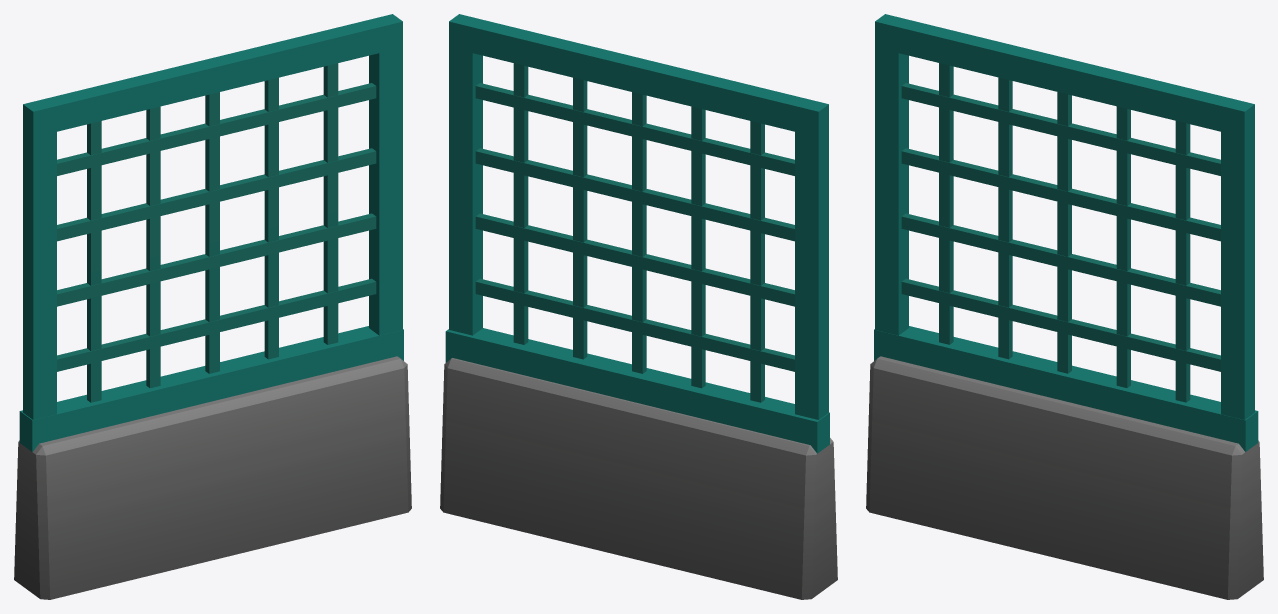
File: Fence_1_E_5.fbx
3 views of the same model, side by side, from view 1: azimuth 30°, elevation 25°; view 2: azimuth 150°, elevation 25°; view 3: azimuth 330°, elevation 25° (orthographic).
Parts seen in each view (by area): view 1: Fence_1_E_5; view 2: Fence_1_E_5; view 3: Fence_1_E_5.
Part boxes in pixels (<box>): Fence_1_E_5: <box>14,14,411,599</box>; Fence_1_E_5: <box>440,14,837,599</box>; Fence_1_E_5: <box>866,14,1263,599</box>.
Bounding box in the file's own units: 200 × 248 × 30.52.
